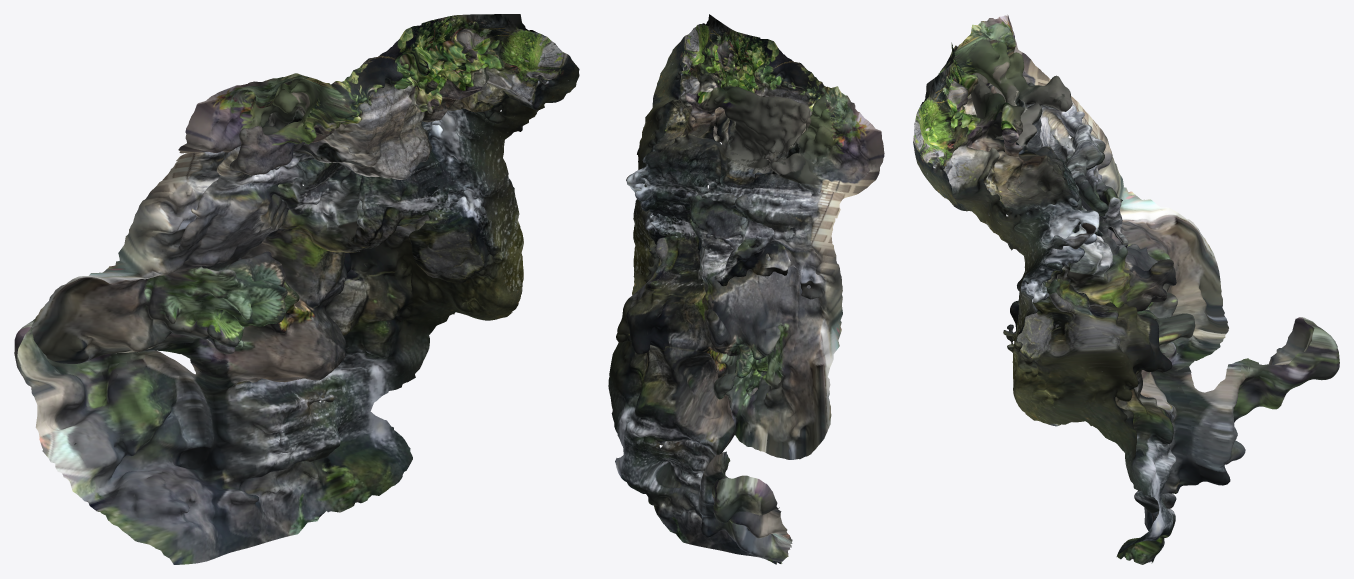
3 views of the same model, side by side, from view 1: azimuth 30°, elevation 25°; view 2: azimuth 150°, elevation 25°; view 3: azimuth 270°, elevation 25° (orthographic). The views are drawn at different scales.
Size of the model in its own units: 47.68 by 69.73 by 51.77.
1 material, 1 textured.
